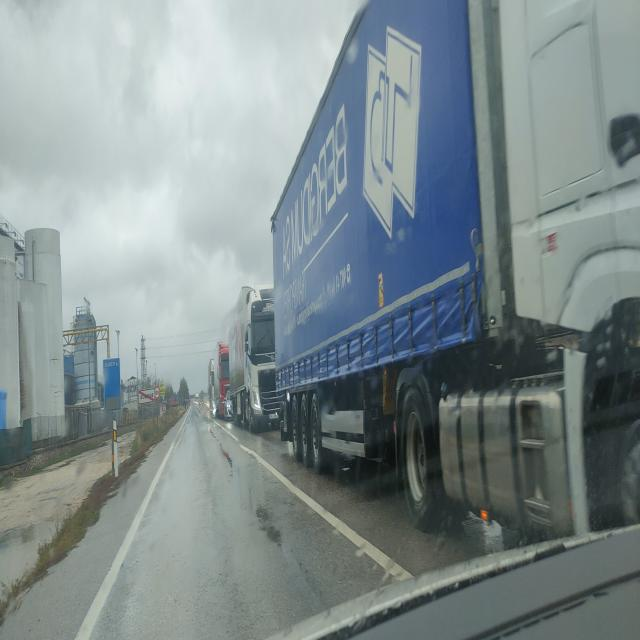Poth-hole: (256, 499, 287, 551), (208, 426, 235, 478)
